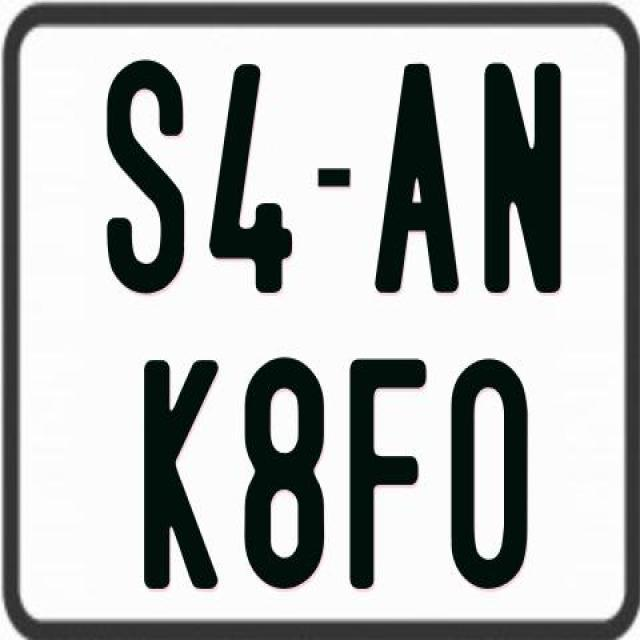0: (448, 358, 526, 598)
4: (208, 62, 294, 301)
8: (242, 354, 326, 596)
A: (374, 62, 466, 296)
F: (346, 357, 426, 596)
K: (140, 358, 218, 592)
N: (482, 62, 560, 293)
S: (105, 56, 188, 296)
